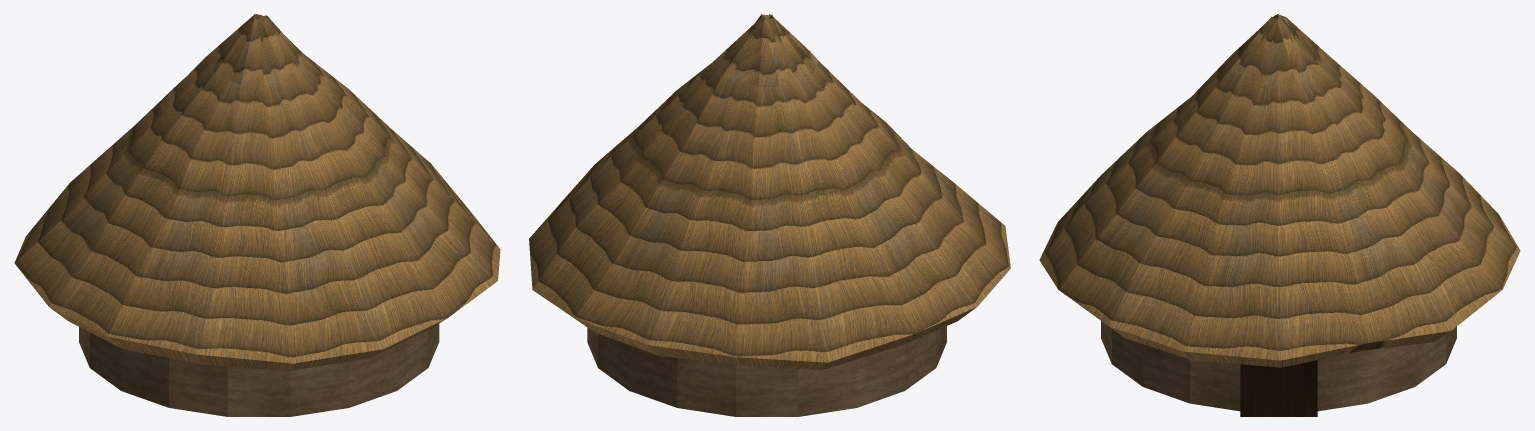
The model's file is capanna_tonda_piccola.glb.
The picture shows the model from 3 angles, left to right: view 1: azimuth 30°, elevation 25°; view 2: azimuth 150°, elevation 25°; view 3: azimuth 270°, elevation 25°; orthographic projection.
Parts seen in each view (by area): view 1: capanna_tonda_piccola; view 2: capanna_tonda_piccola; view 3: capanna_tonda_piccola.
Part boxes in pixels (left/top/right/bottom): capanna_tonda_piccola: left=14, top=14, right=500, bottom=416; capanna_tonda_piccola: left=529, top=14, right=1010, bottom=416; capanna_tonda_piccola: left=1039, top=14, right=1520, bottom=416.
Size of the model in its own units: 6.21 by 4.59 by 6.22.
Materials: 3 (3 with a texture image).
